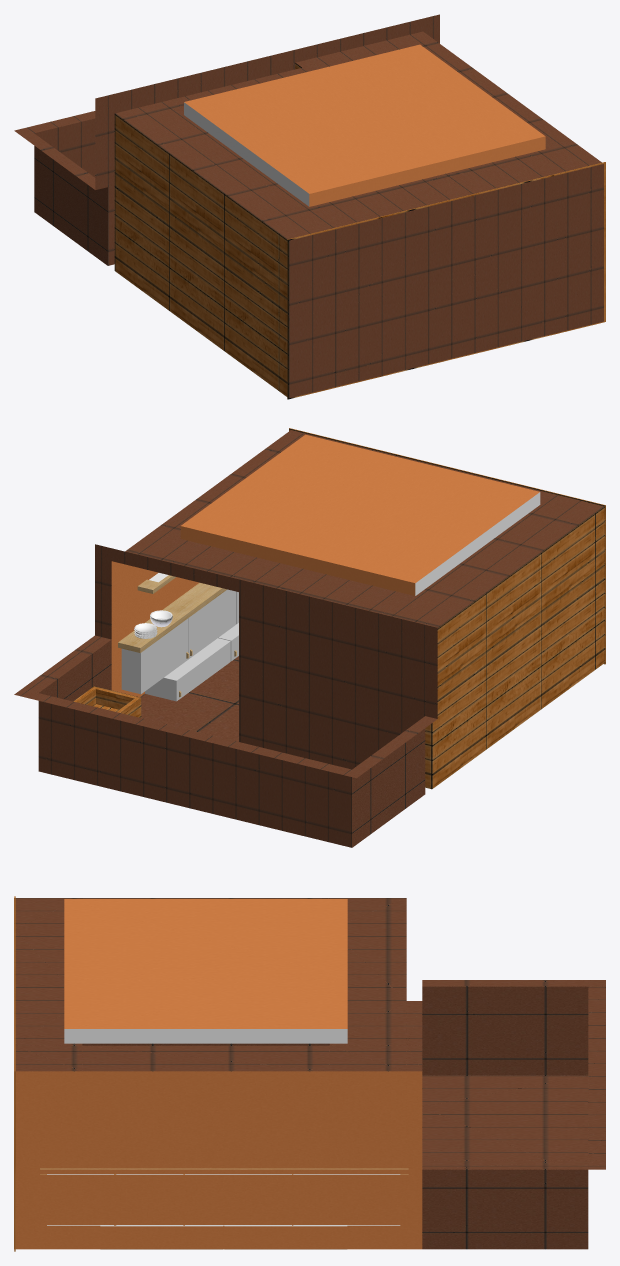
File: room.obj
The picture shows the model from 3 angles, top to bottom: view 1: azimuth 30°, elevation 25°; view 2: azimuth 150°, elevation 25°; view 3: azimuth 270°, elevation 25°; orthographic projection. The views are drawn at different scales.
Visible parts, largest first — view 1: LivingRoom, Cube; view 2: LivingRoom, Cube; view 3: LivingRoom, Cube.
Part boxes in pixels (x1,y1,x2,y2): LivingRoom: (14,14,603,398); Cube: (287,162,605,399); LivingRoom: (14,430,604,847); Cube: (289,428,605,664); LivingRoom: (14,898,605,1249); Cube: (14,896,15,1251).
Size of the model in its own units: 687 by 340 by 905.
